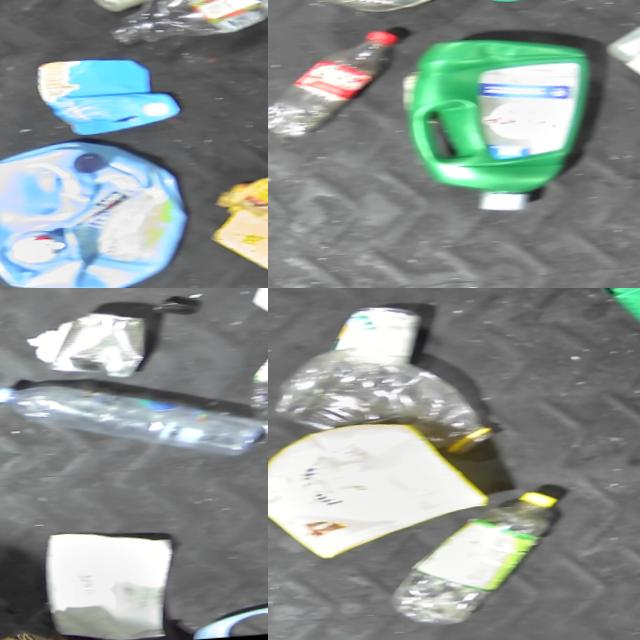can: (35, 307, 153, 384), (323, 302, 426, 366)
non_white_jug: (391, 28, 605, 220), (0, 131, 192, 288)
plastic_bottle: (268, 335, 497, 469), (369, 488, 568, 632), (0, 367, 262, 475), (268, 27, 406, 141), (97, 0, 268, 48), (229, 317, 268, 457)
